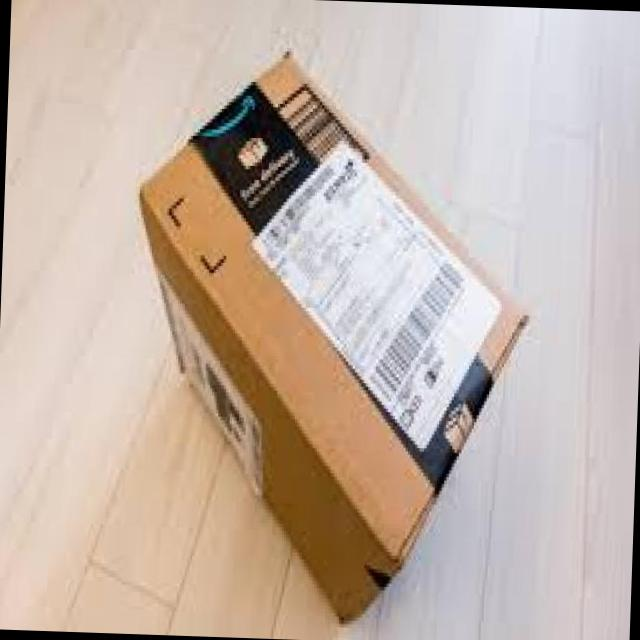box: (134, 45, 532, 626)
